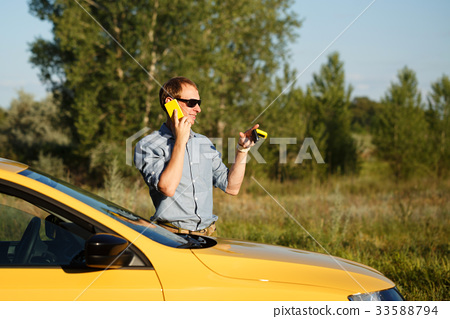phone: (159, 95, 186, 127)
talk: (164, 91, 200, 137)
